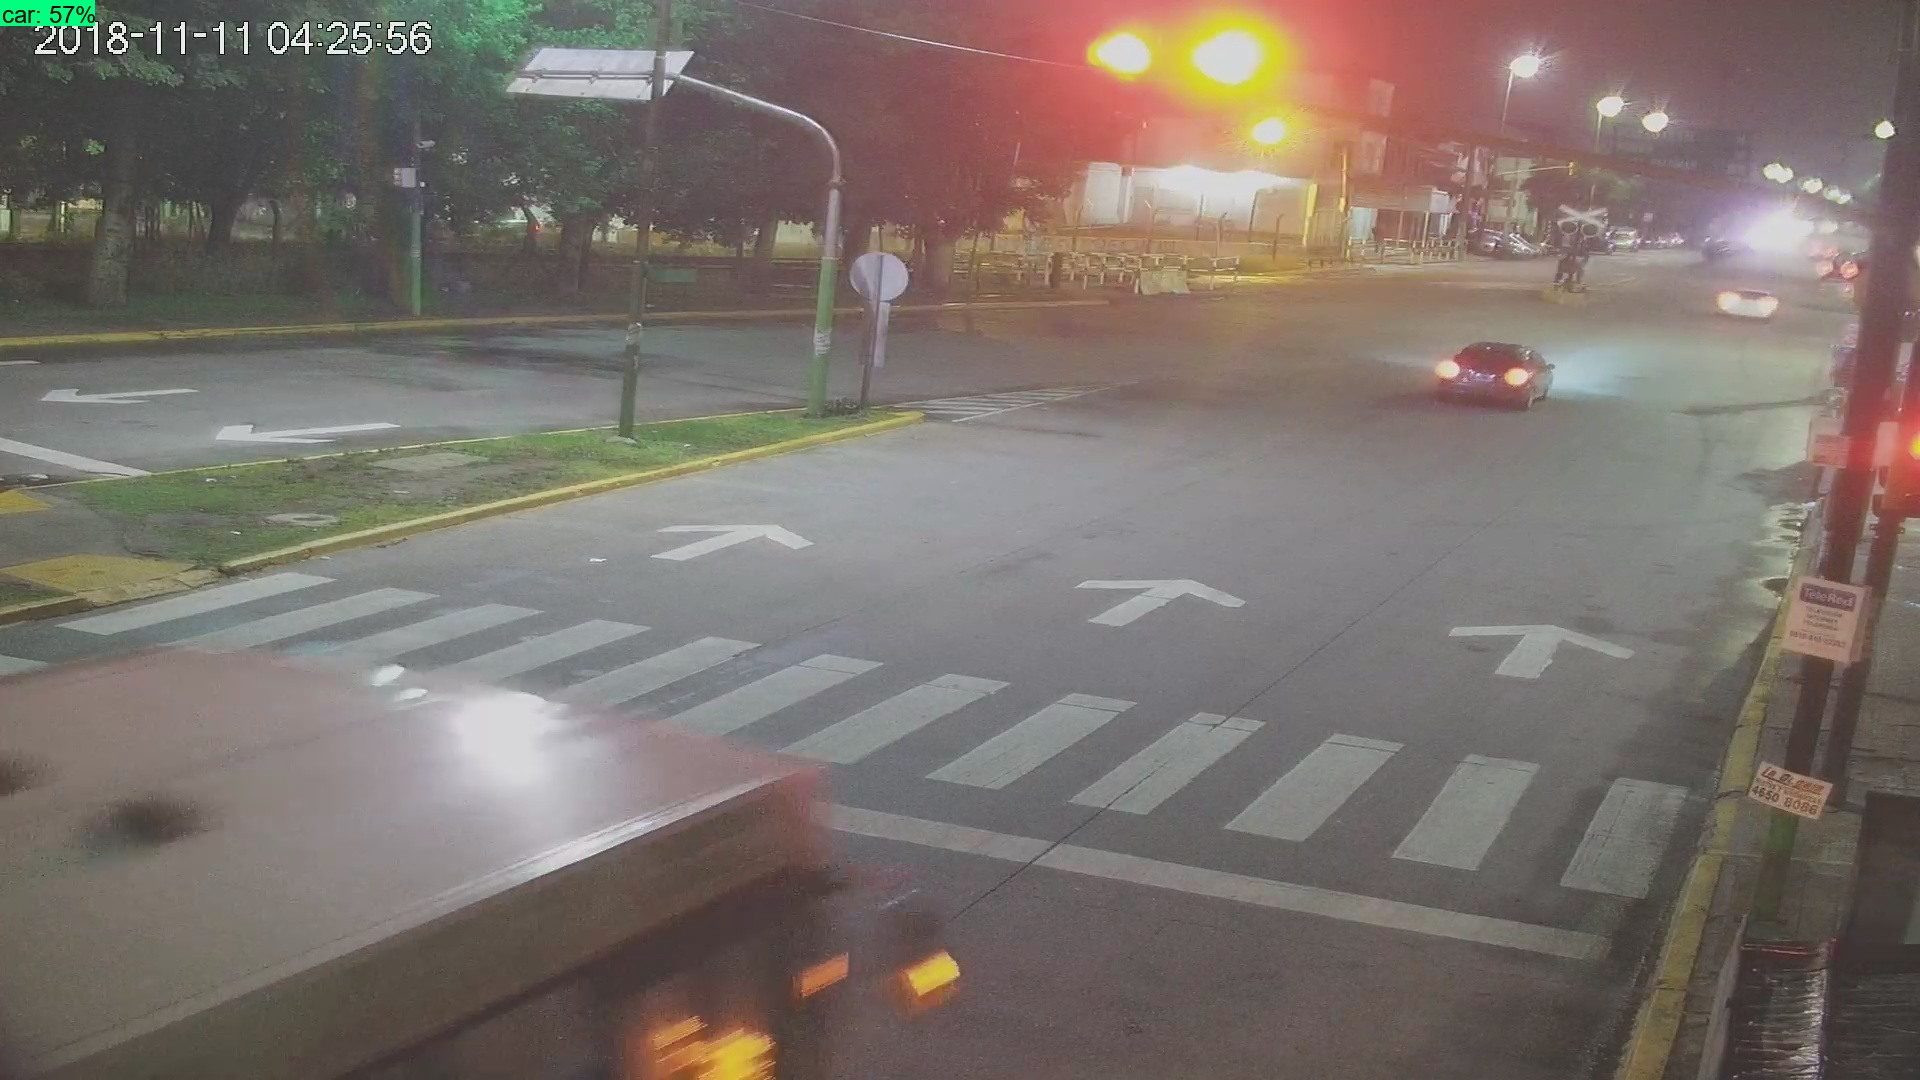bus: (1, 634, 963, 1077)
car: (1429, 331, 1555, 415), (1716, 284, 1778, 324)
